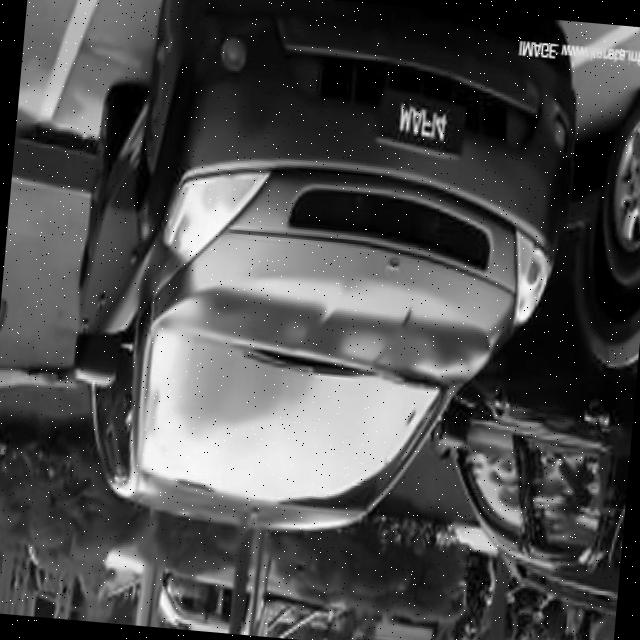License_Plate: (378, 92, 469, 158)
car: (40, 1, 582, 560)
